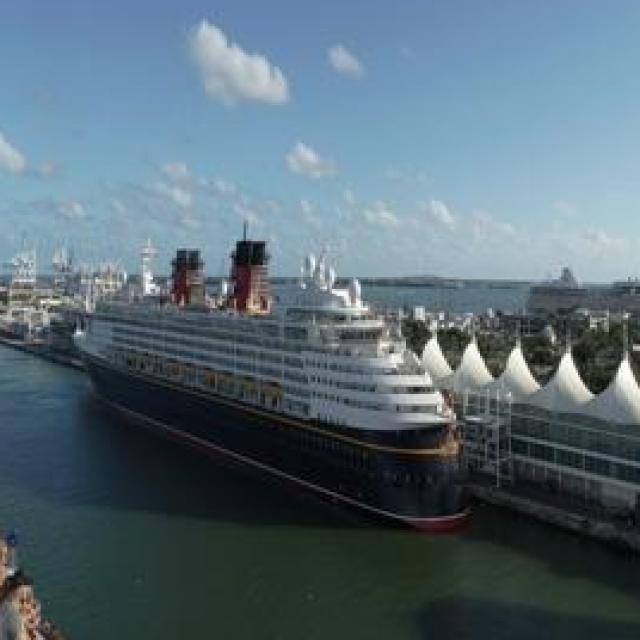passenger ship: (71, 249, 476, 526)
